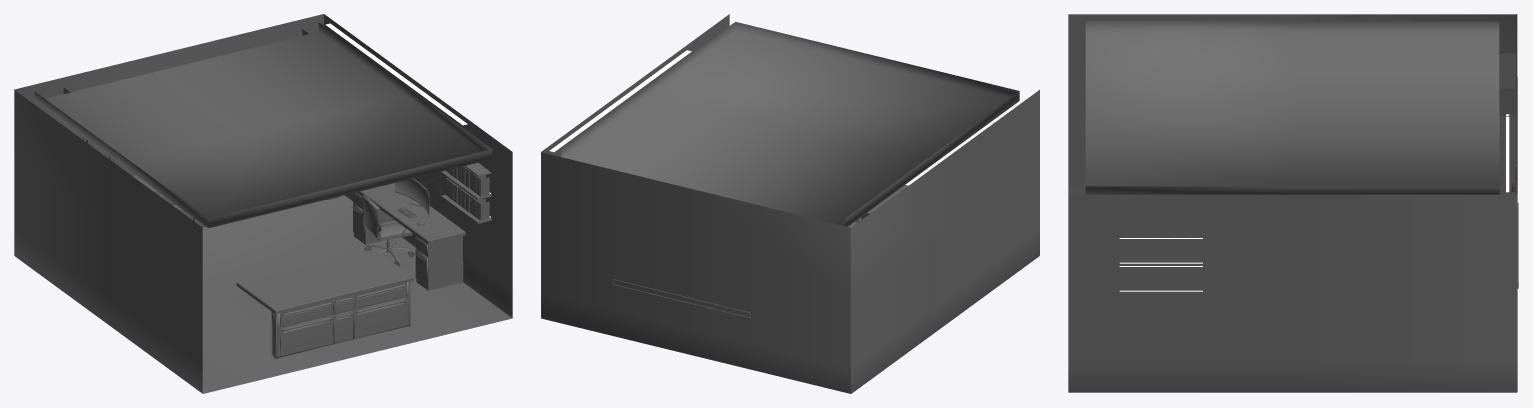
File: backgroundNoAnimation.glb
The picture shows the model from 3 angles, left to right: view 1: azimuth 30°, elevation 25°; view 2: azimuth 150°, elevation 25°; view 3: azimuth 270°, elevation 25°; orthographic projection. The views are drawn at different scales.
Parts seen in each view (by area): view 1: ENV-baked; view 2: ENV-baked; view 3: ENV-baked.
Boxes of the visible parts, x1,y1,x2,y2 form: ENV-baked: (14, 14, 512, 393); ENV-baked: (541, 14, 1039, 393); ENV-baked: (1068, 14, 1518, 392).
Size of what is drawn, in the model's own units: 8.3 by 4.28 by 8.74.
Materials: 6 (1 with a texture image).
